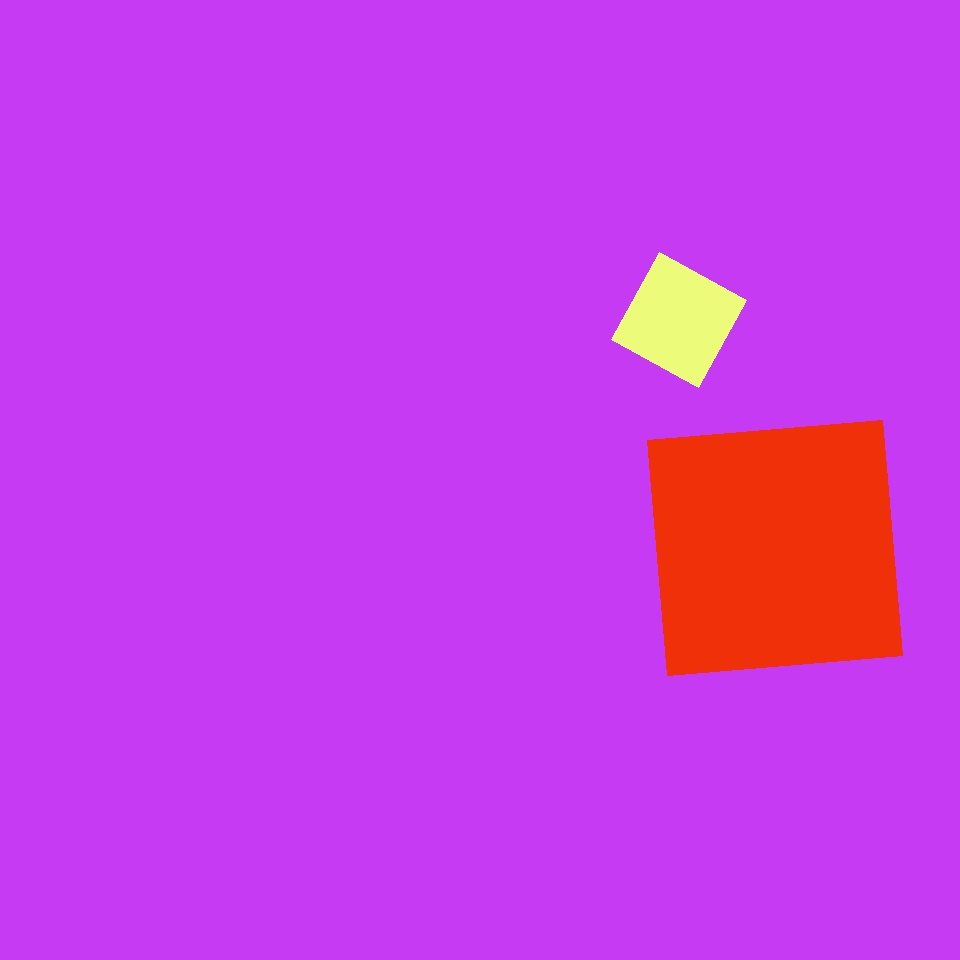square: (648, 420, 902, 676), (373, 771, 544, 942), (612, 252, 746, 388)
triangle: (270, 356, 425, 512)
